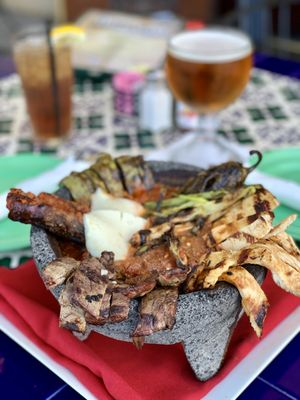pizza: (10, 21, 78, 155)
